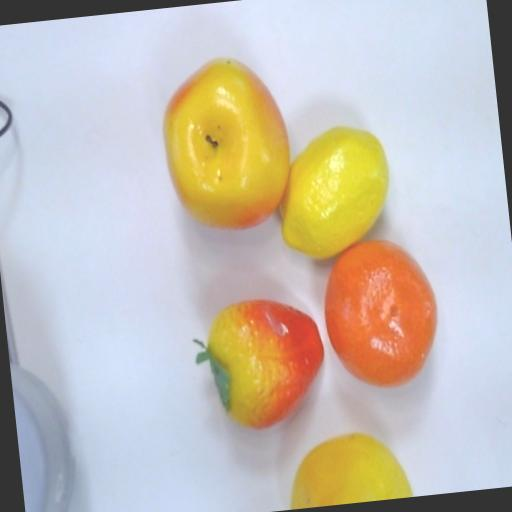Ripe: (147, 46, 296, 244), (186, 288, 328, 438), (266, 117, 398, 270), (312, 238, 446, 388), (275, 420, 414, 510)
